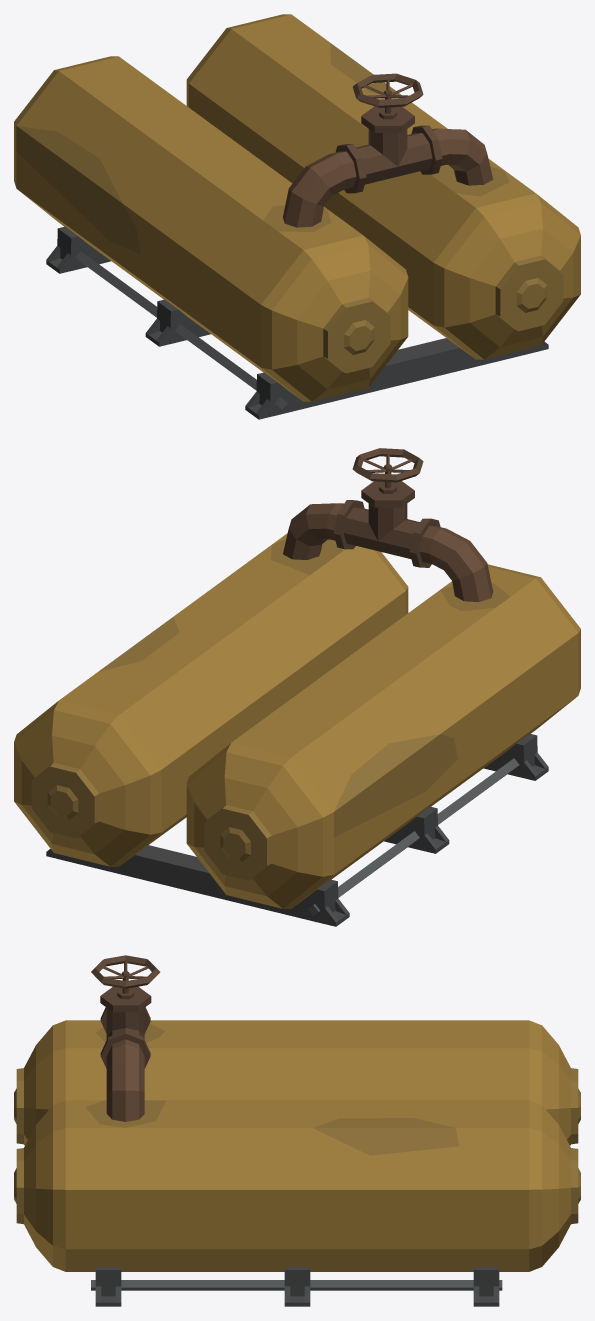
Rendered from SM_Props_Industrial_GasTank_04.fbx.
The picture shows the model from 3 angles, top to bottom: view 1: azimuth 30°, elevation 25°; view 2: azimuth 150°, elevation 25°; view 3: azimuth 270°, elevation 25°; orthographic projection. The views are drawn at different scales.
Parts seen in each view (by area): view 1: SM_Props_Industrial_GasTank_04; view 2: SM_Props_Industrial_GasTank_04; view 3: SM_Props_Industrial_GasTank_04.
Boxes of the visible parts, x1,y1,x2,y2 form: SM_Props_Industrial_GasTank_04: (14,14,580,419); SM_Props_Industrial_GasTank_04: (14,448,580,926); SM_Props_Industrial_GasTank_04: (14,955,580,1306).
Size of the model in its own units: 324 by 279 by 528.
